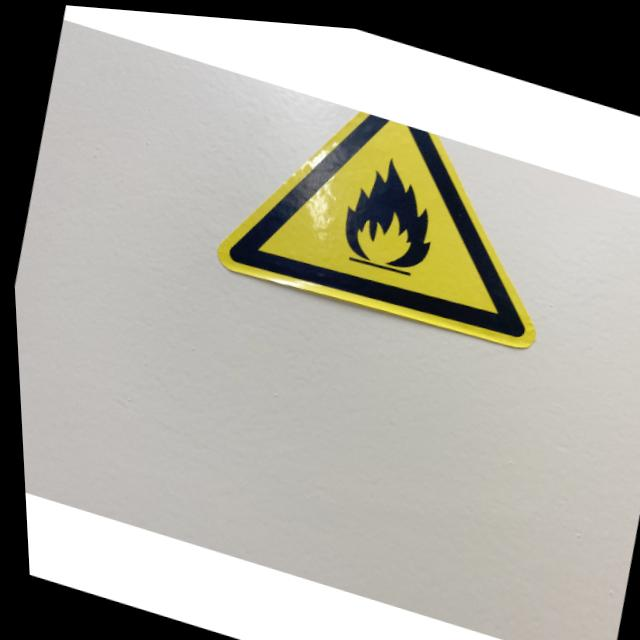fire hazard: (330, 138, 447, 280)
